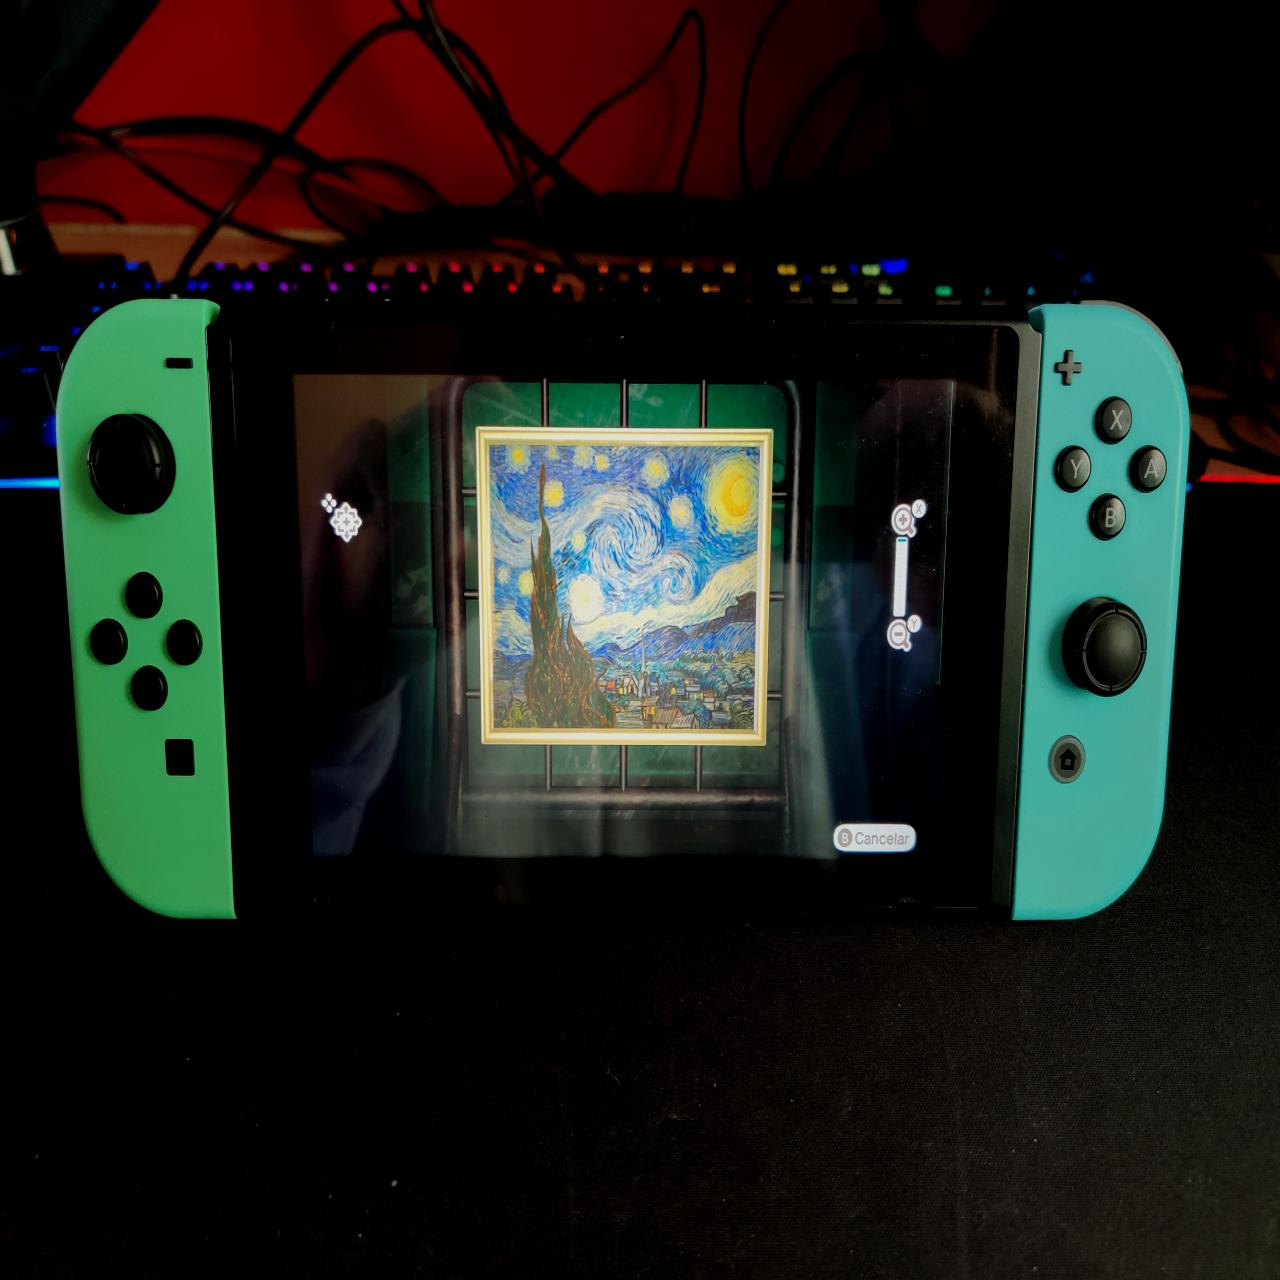StarryNight: (489, 448, 757, 734)
